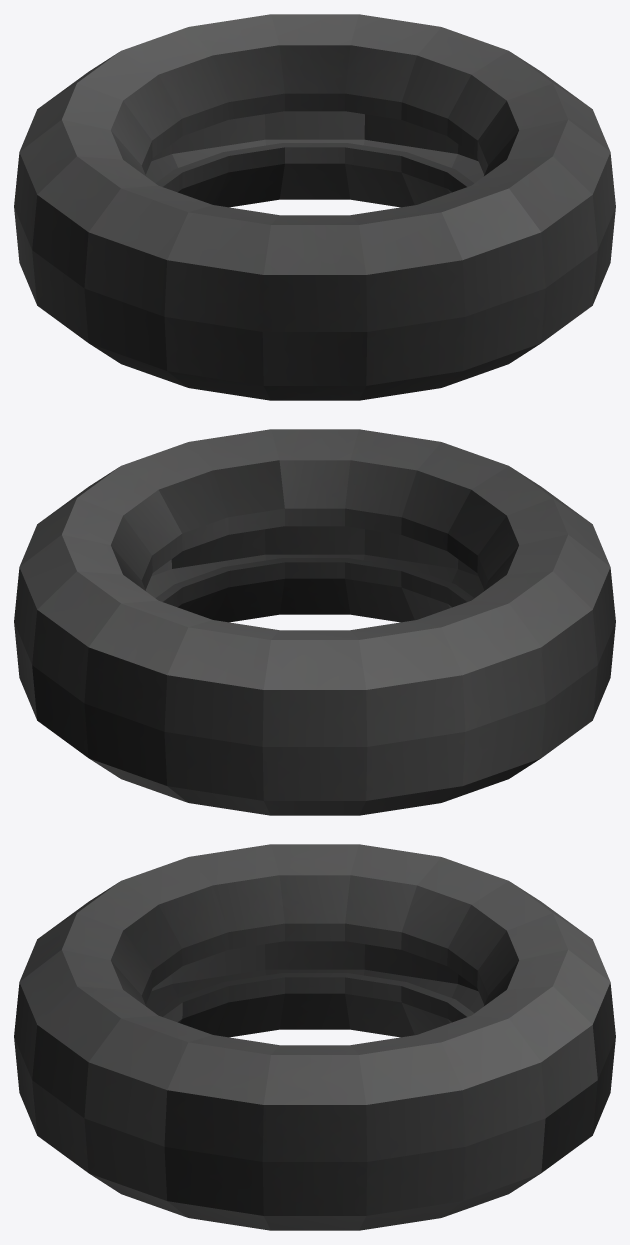
Rendered from tire.dae.
3 renders of one model, top to bottom at view 1: azimuth 30°, elevation 25°; view 2: azimuth 150°, elevation 25°; view 3: azimuth 270°, elevation 25°, orthographic.
Visible parts, largest first — view 1: tire; view 2: tire; view 3: tire.
Part boxes in pixels (x1,y1,x2,y2): tire: (14, 14, 615, 400); tire: (14, 429, 615, 815); tire: (14, 844, 615, 1230).
Bounding box in the file's own units: 0.8089 × 0.8214 × 0.2645.
